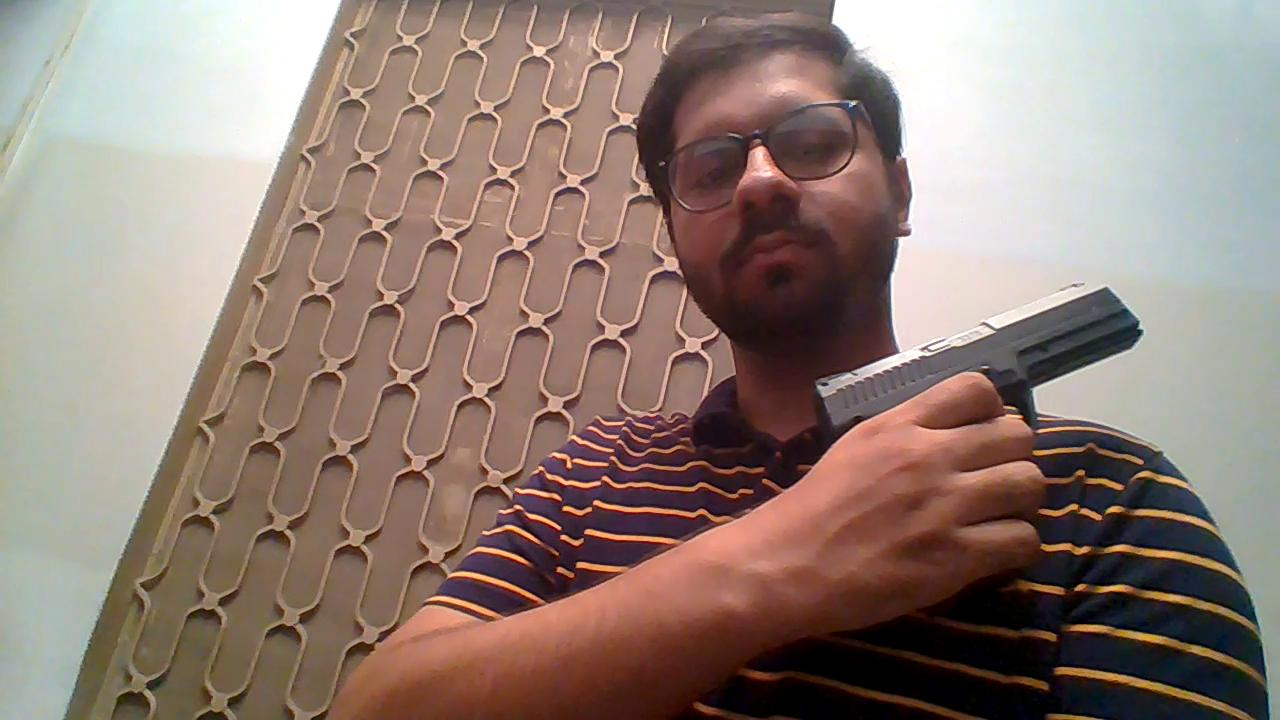criminal: (326, 9, 1269, 720)
weapon: (813, 275, 1146, 447)
